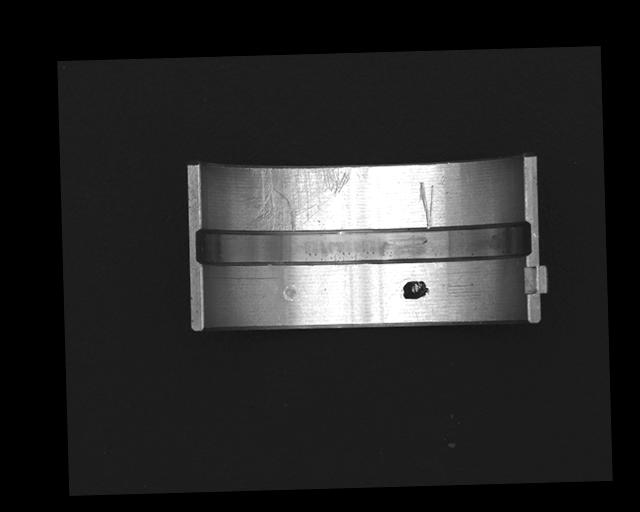blot: (401, 279, 430, 299)
bruise: (282, 282, 297, 302)
gap: (195, 220, 532, 268)
nick: (417, 180, 435, 229)
scratch: (243, 163, 351, 233)
